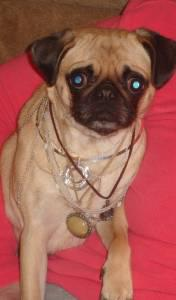dog-pug: (30, 27, 174, 133)
